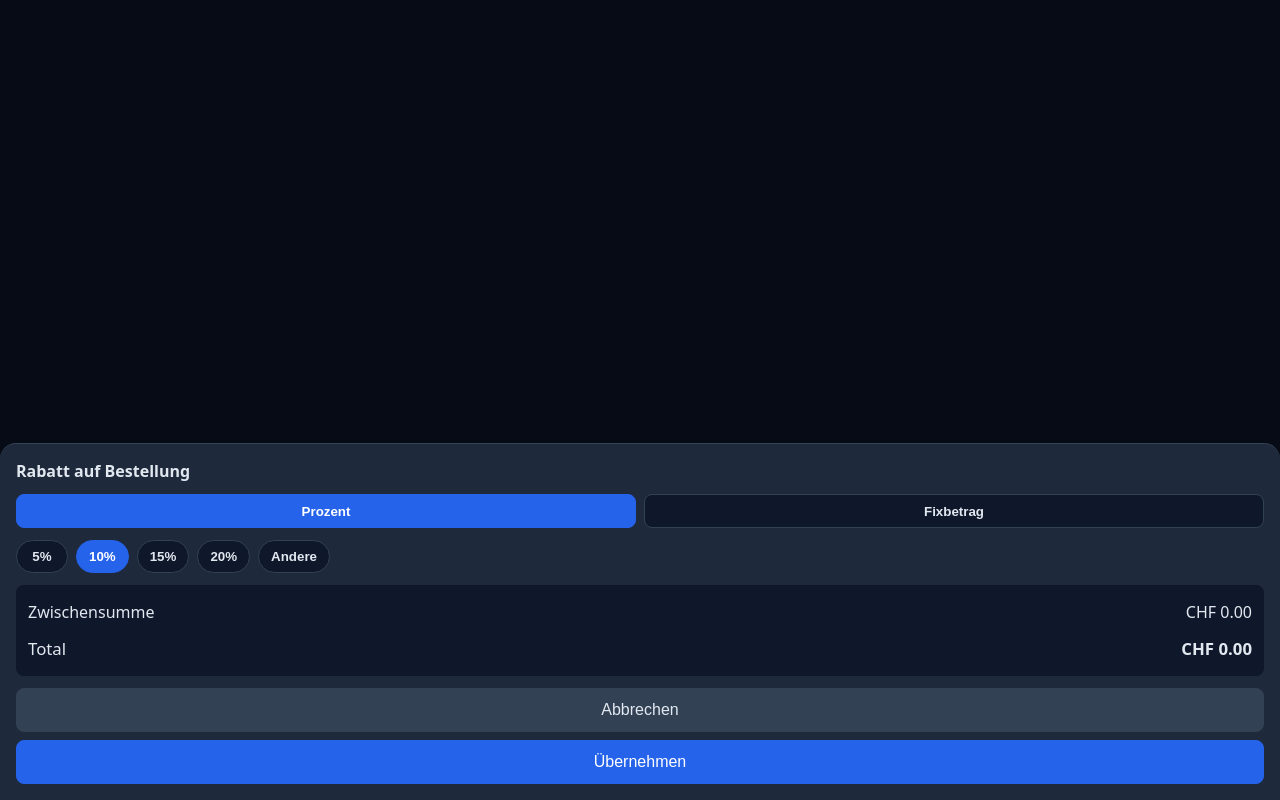
OrderDiscountSheet custom percent keypad › uses on-screen percent keypad for Andere
This screenshot has width=1280, height=800.
Click the button with class "chip-btn" showing "Andere".
click(294, 557)  # box [258,540,330,573]
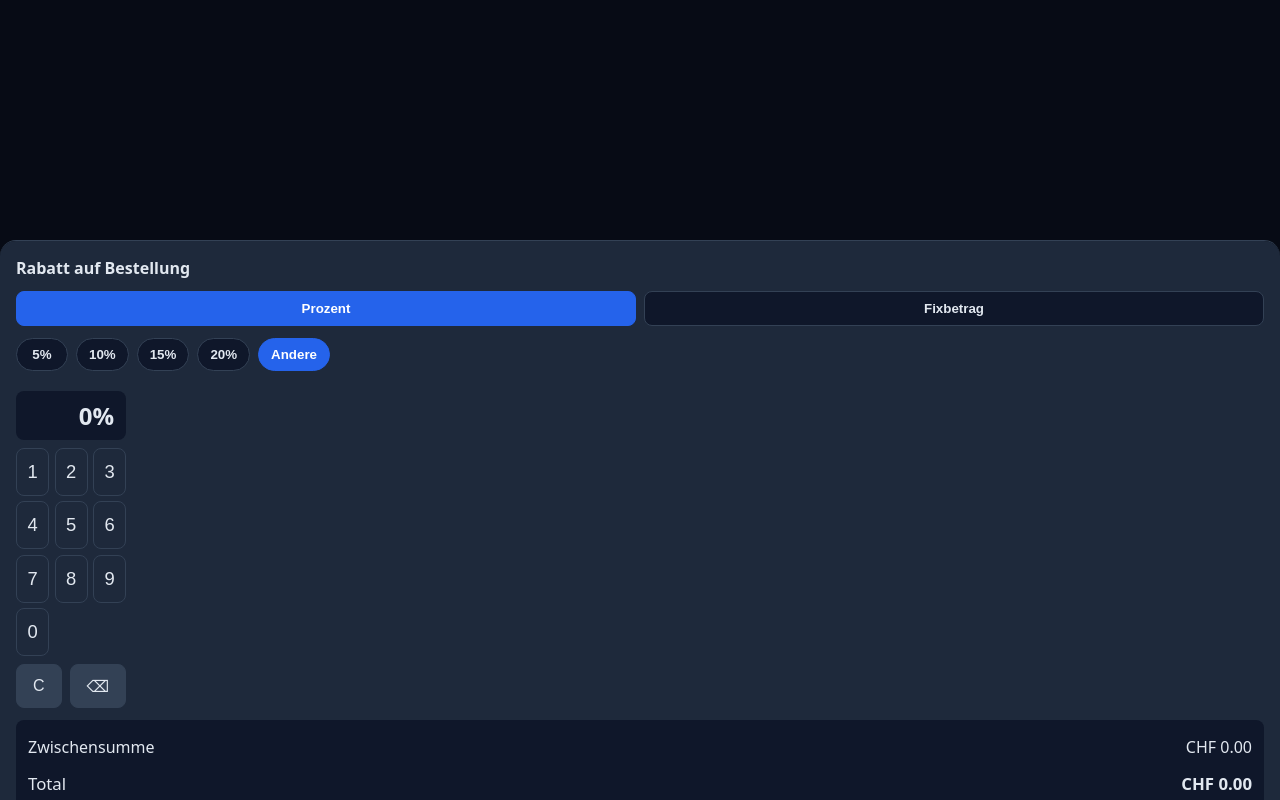
Result: the element showing "0% 1 2 3 4 5 6 7 8 9 0 C ⌫" is shown at [16,391,126,708]
Click the button with class "key" showing "7".
click(32, 579)  # box [16,555,49,603]
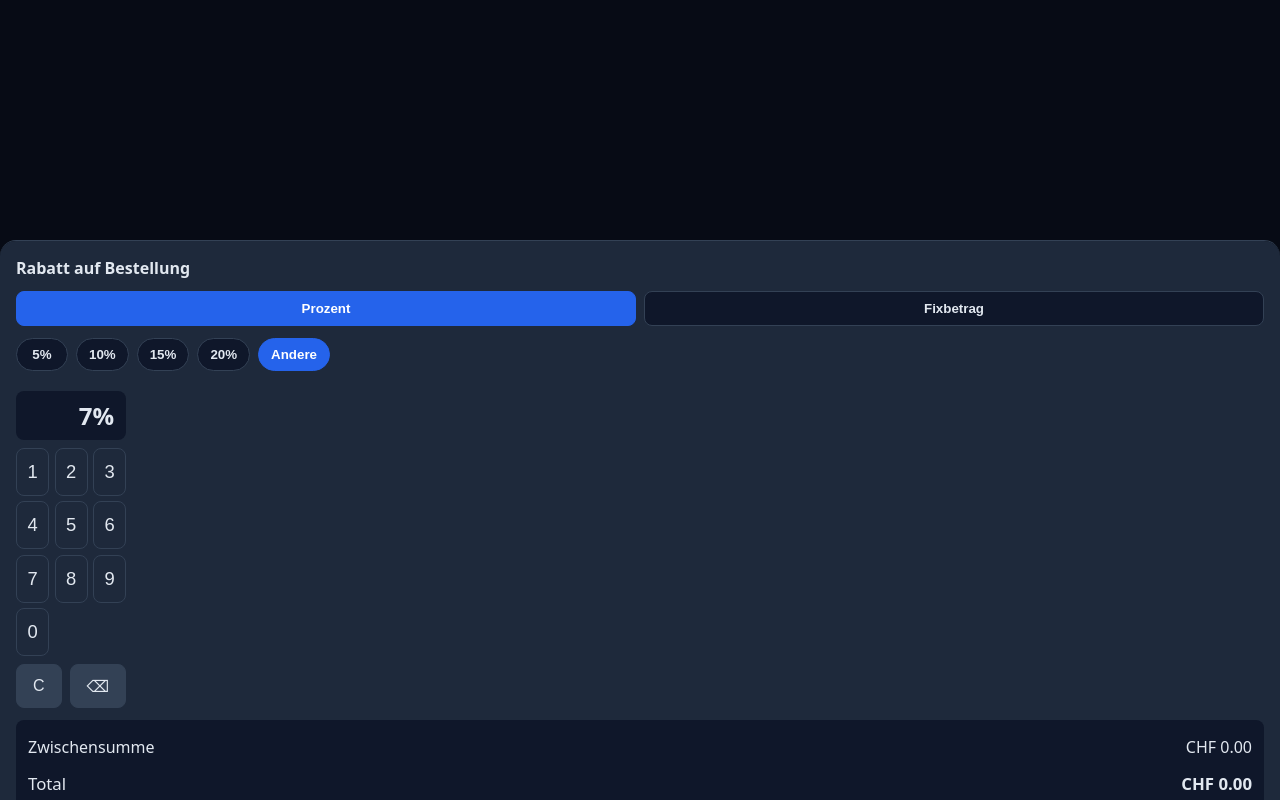
Result: the text with class "display" reads "7%" at [79,399,114,432]
